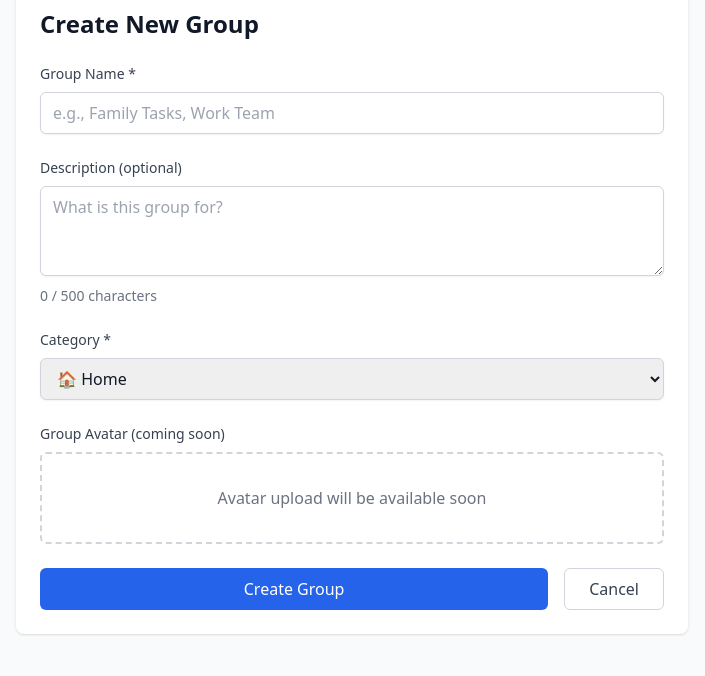
Test: CreateGroupPage › validates minimum name length
Type "ab" into the field labelled "Group Name *" at point(352, 113), box x1=40 y1=92 x2=664 y2=134
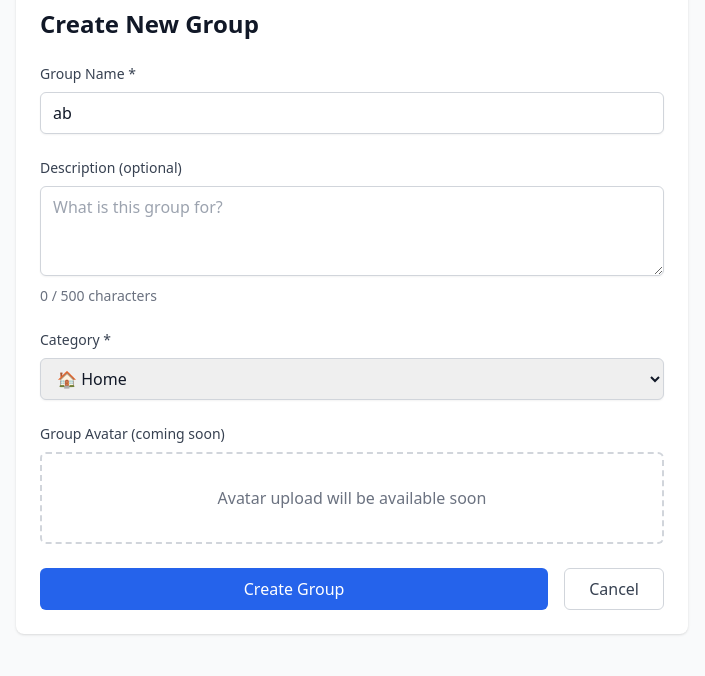
Click the button "Create Group" at point(294, 589), box x1=40 y1=568 x2=548 y2=610
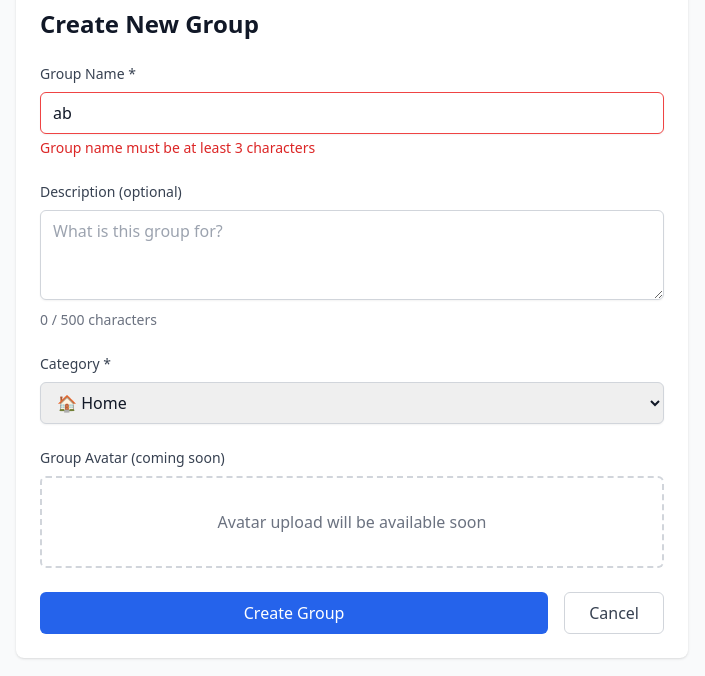
Now the text "Group name must be at least 3 characters" is shown, box x1=40 y1=138 x2=315 y2=157
